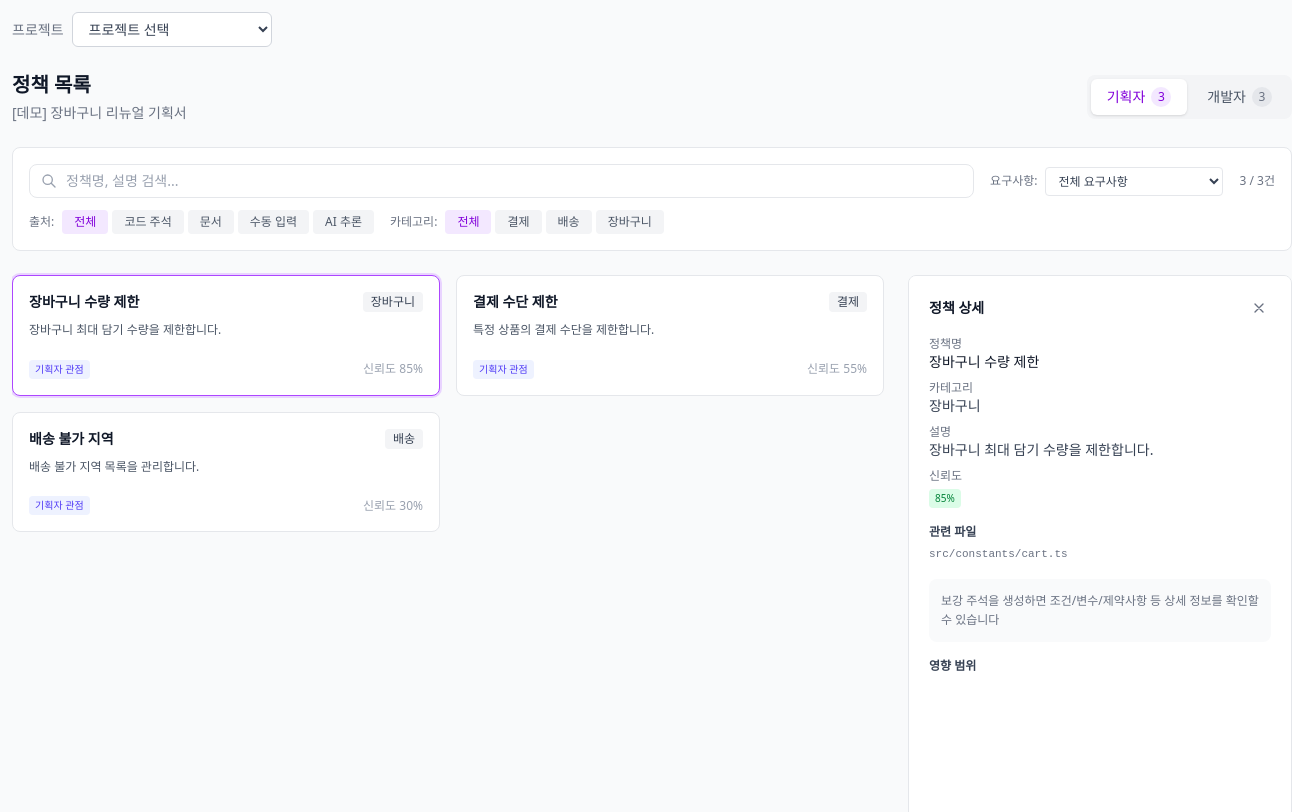
Test: Policies › should close detail panel when close button is clicked
Expected: the heading "정책 상세" is shown, x1=929 y1=298 x2=984 y2=318
// Click close button
Click the button named "패널 닫기" at x=1259, y=308, box x1=1247 y1=296 x2=1271 y2=320
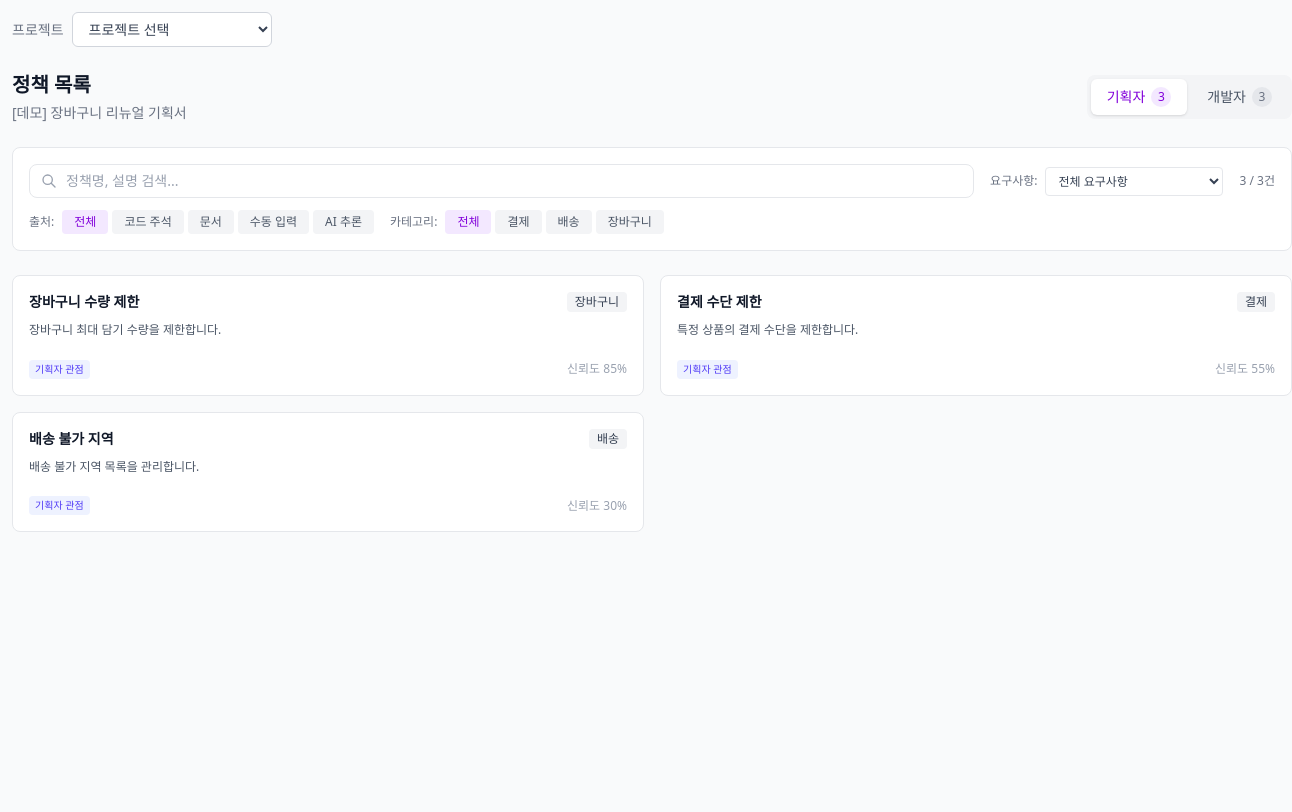
Expected: the heading "정책 상세" is gone
